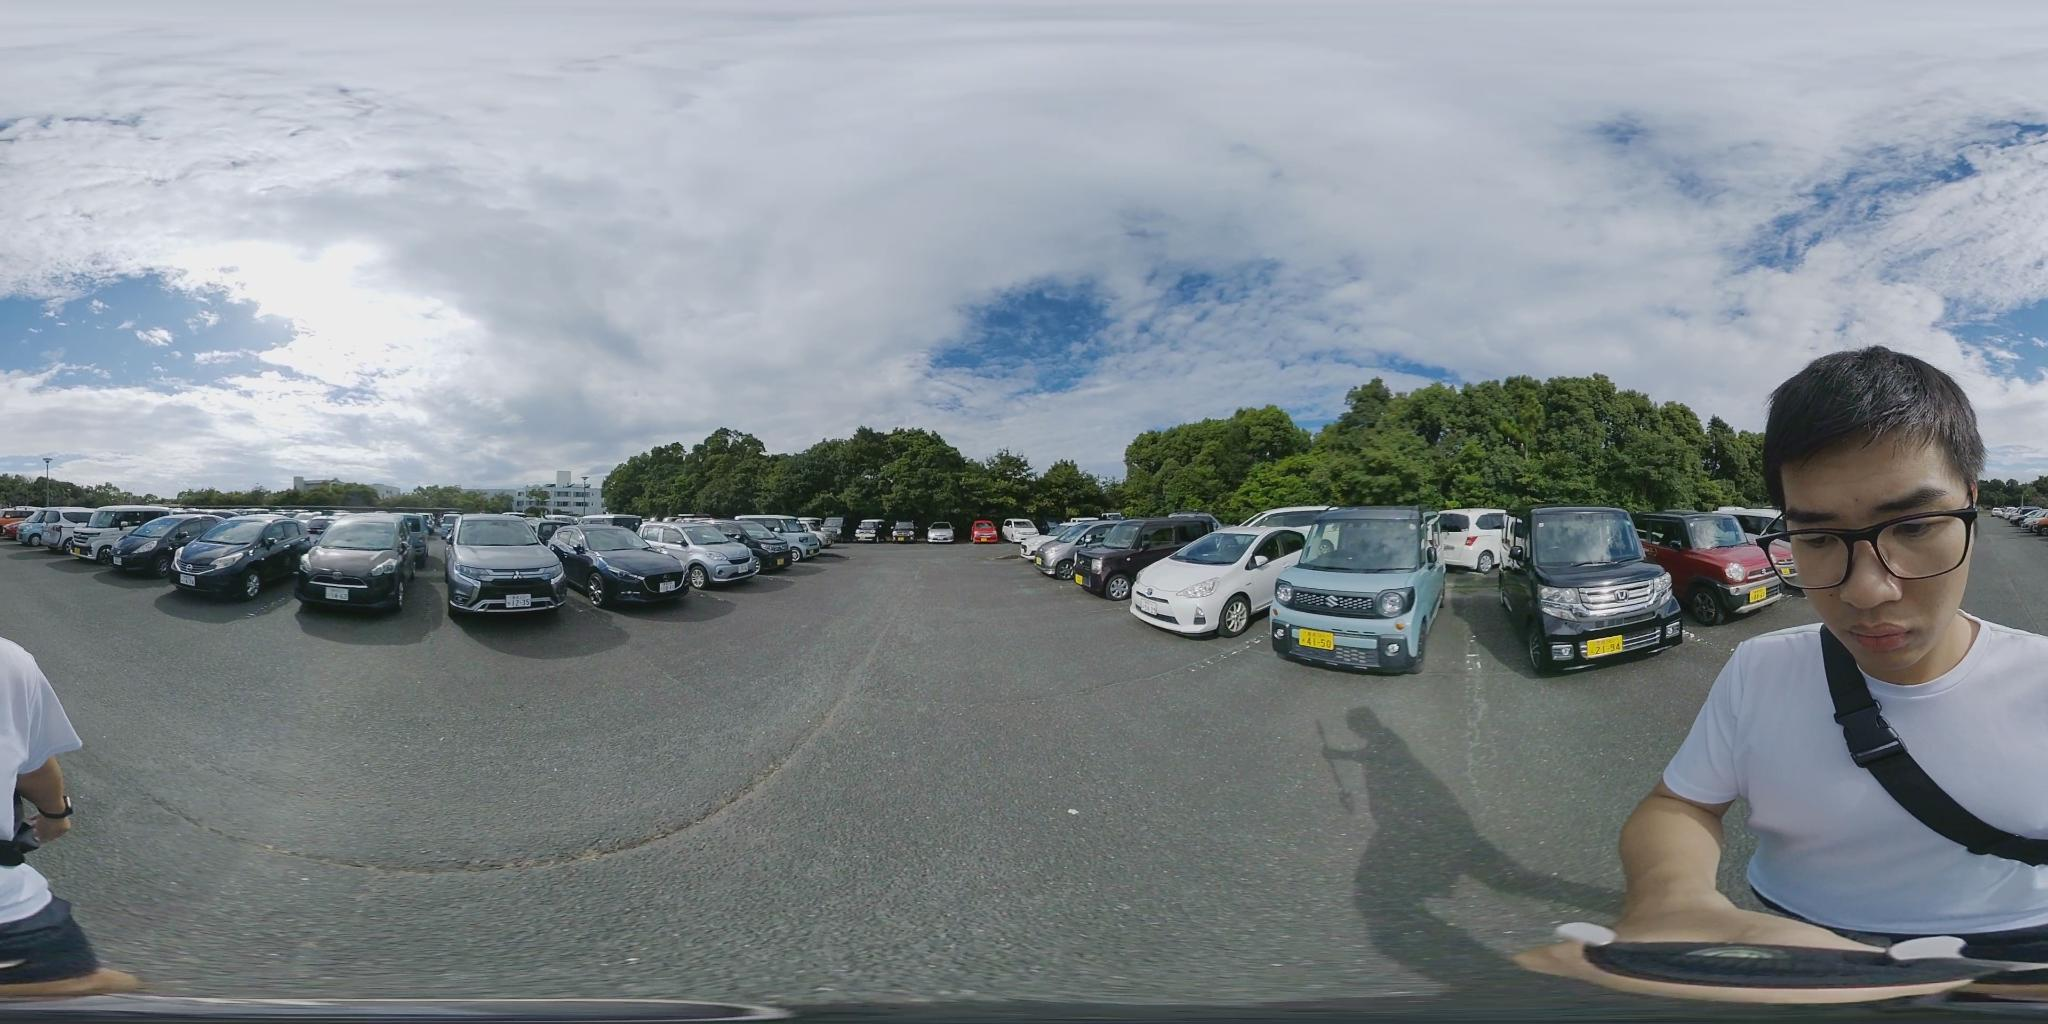car: (1502, 507, 1691, 675), (1263, 508, 1451, 674), (1125, 526, 1310, 641), (1634, 507, 1804, 623), (303, 516, 448, 620), (447, 520, 576, 619), (549, 522, 688, 609), (1074, 517, 1224, 597), (98, 515, 238, 576), (647, 522, 771, 584), (1429, 509, 1526, 572), (57, 508, 175, 558), (733, 519, 823, 564)
